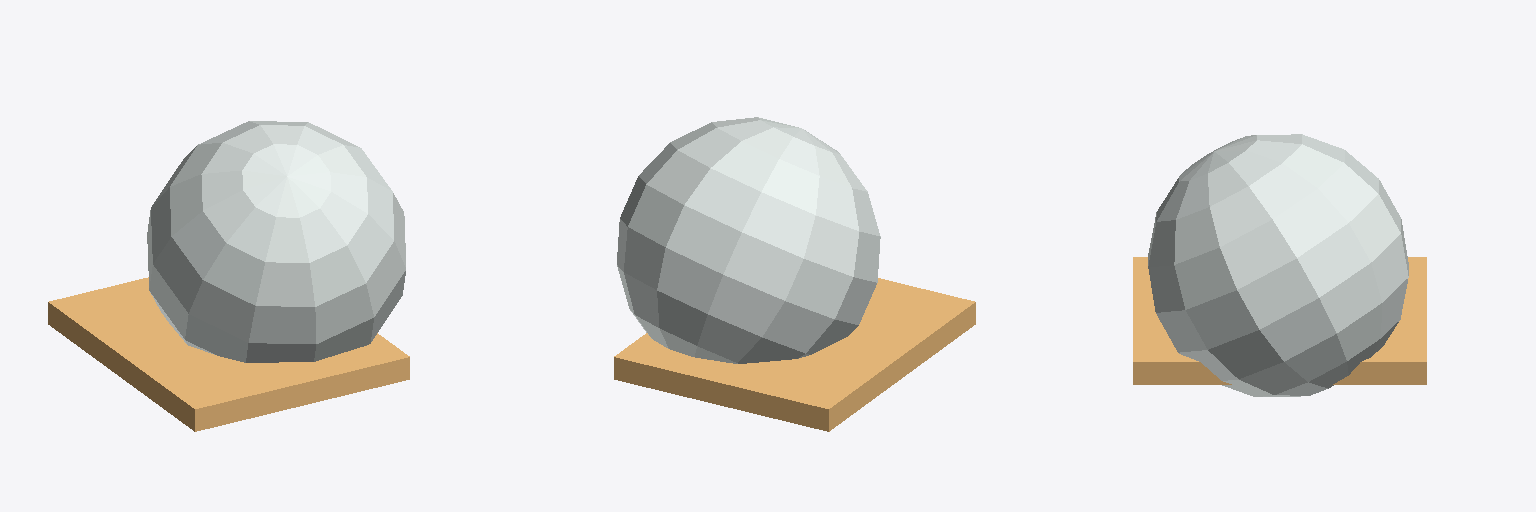
3 views of the same model, side by side, from view 1: azimuth 30°, elevation 25°; view 2: azimuth 150°, elevation 25°; view 3: azimuth 270°, elevation 25° (orthographic).
Parts seen in each view (by area): view 1: group[number redacted], group[number redacted]; view 2: group[number redacted], group[number redacted]; view 3: group[number redacted], group[number redacted].
Boxes of the visible parts, x1=… form: group[number redacted]: x1=147, y1=121, x2=405, y2=362; group[number redacted]: x1=48, y1=277, x2=409, y2=431; group[number redacted]: x1=617, y1=117, x2=880, y2=363; group[number redacted]: x1=614, y1=278, x2=975, y2=431; group[number redacted]: x1=1148, y1=134, x2=1408, y2=396; group[number redacted]: x1=1133, y1=257, x2=1426, y2=384.
Bounding box in the file's own units: 1.62 × 1.38 × 1.54.